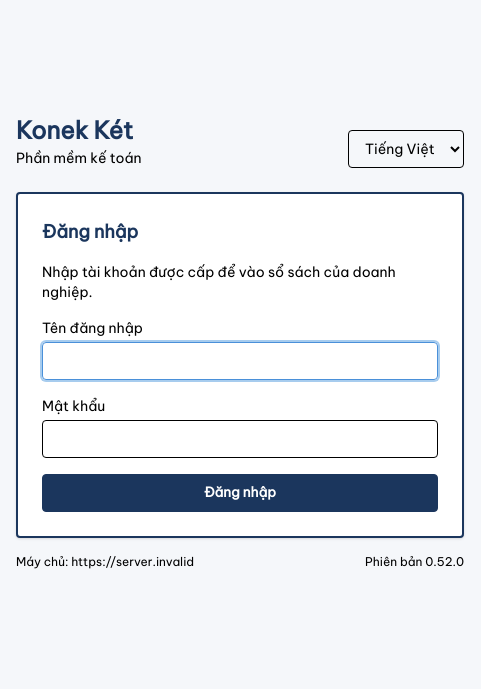
luồng đăng nhập › gõ sai mật khẩu hiện tại KHÔNG đá người dùng ra màn hình đăng nhập
Type "ke_toan" into the field labelled "Tên đăng nhập" at (240, 361), box x1=42 y1=342 x2=438 y2=380
Type "mat-khau-dung" into the password field labelled "Mật khẩu" at (240, 439), box x1=42 y1=420 x2=438 y2=458
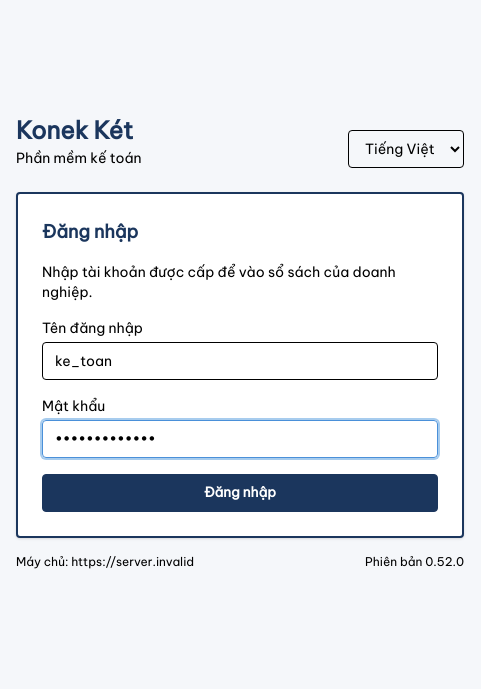
Click the button "Đăng nhập" at (240, 493), box x1=42 y1=474 x2=438 y2=512
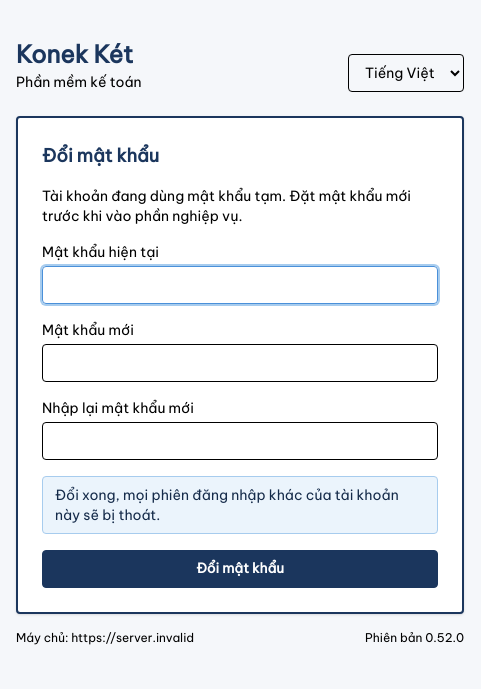
expect the heading "Đổi mật khẩu" is shown: met, box x1=42 y1=144 x2=159 y2=167
Type "go-nham" into the password field labelled "Mật khẩu hiện tại" at (240, 285), box x1=42 y1=266 x2=438 y2=304
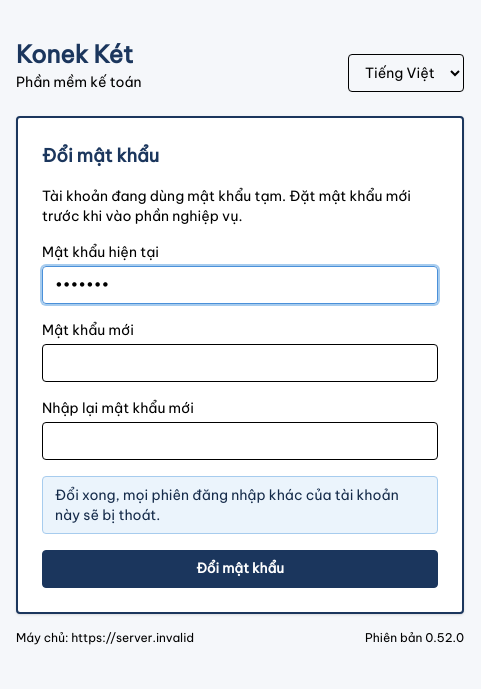
Type "MatKhauMoi!2026" into the password field labelled "Mật khẩu mới" at (240, 363), box x1=42 y1=344 x2=438 y2=382
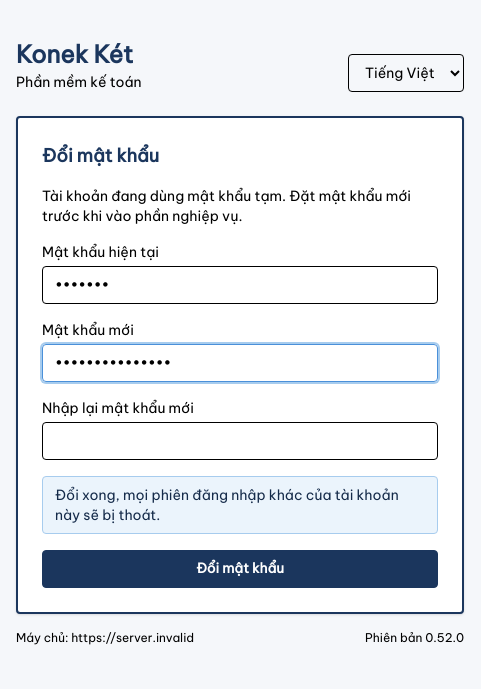
Type "MatKhauMoi!2026" into the password field labelled "Nhập lại mật khẩu mới" at (240, 441), box x1=42 y1=422 x2=438 y2=460
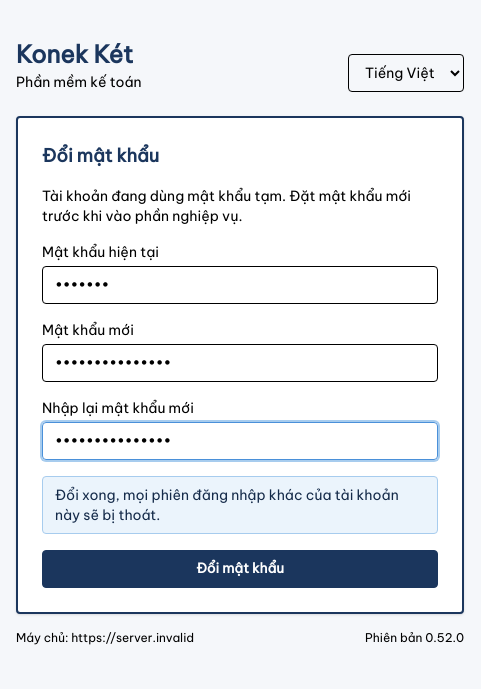
Click the button "Đổi mật khẩu" at (240, 569), box x1=42 y1=550 x2=438 y2=588
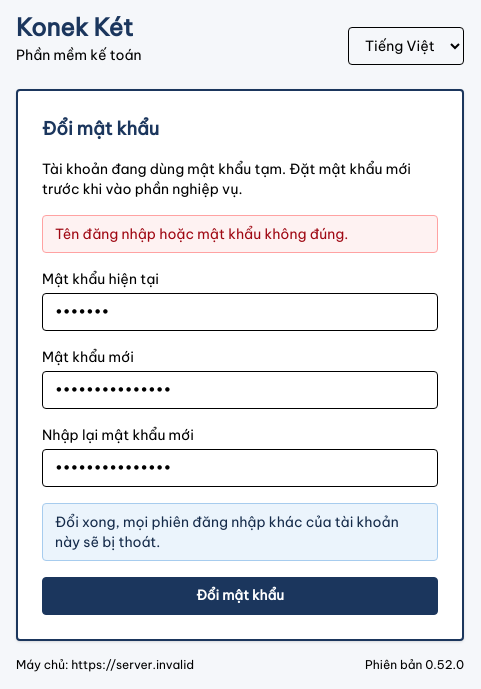
expect the heading "Đổi mật khẩu" is shown: met, box x1=42 y1=117 x2=159 y2=140
expect the message "Tên đăng nhập hoặc mật khẩu không đúng." is shown: met, box x1=42 y1=215 x2=438 y2=253
